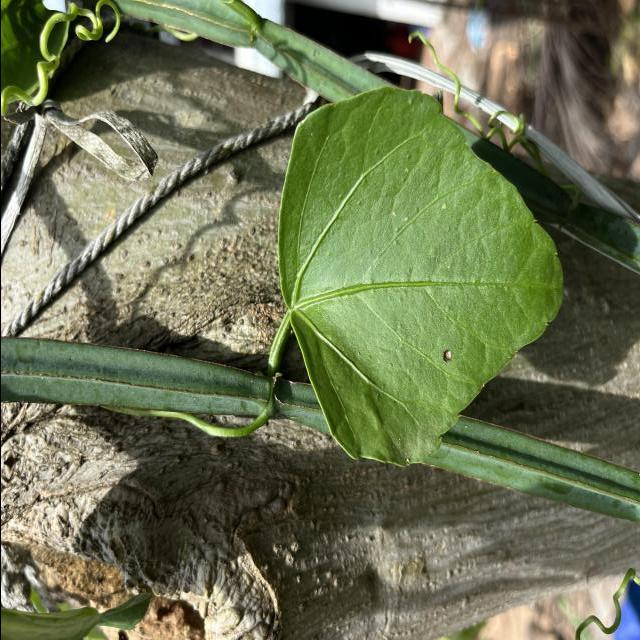Cissus quadrangularis: (274, 84, 566, 472)
